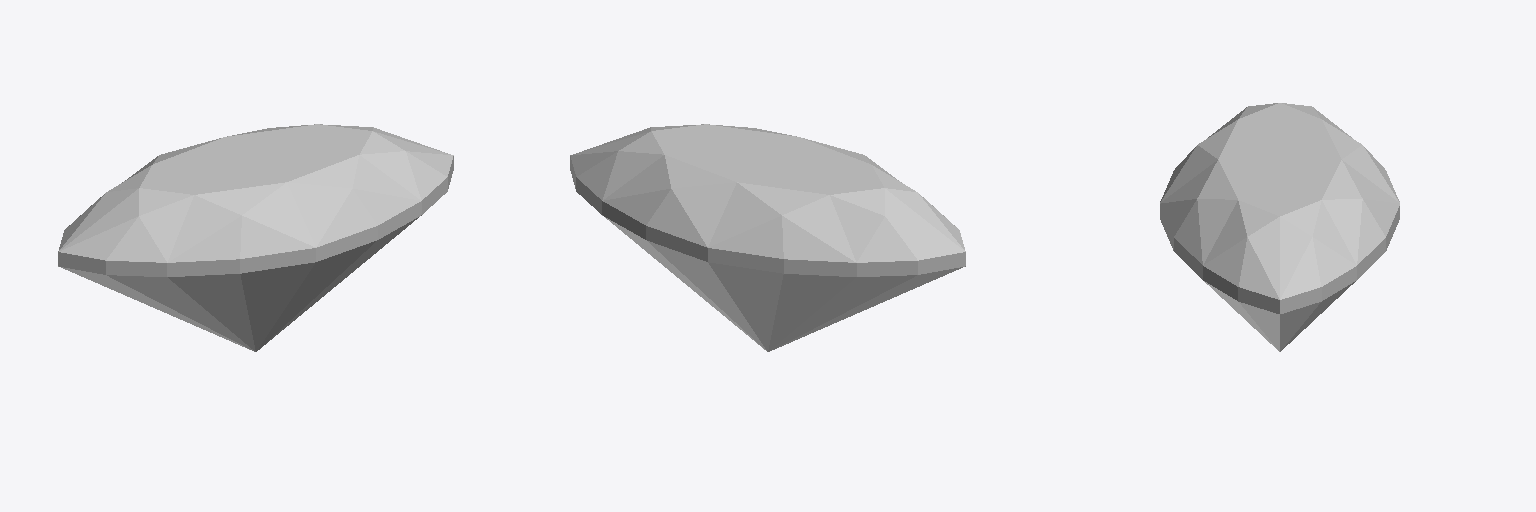
Rendered from Gem2.obj.
3 views of the same model, side by side, from view 1: azimuth 30°, elevation 25°; view 2: azimuth 150°, elevation 25°; view 3: azimuth 270°, elevation 25° (orthographic).
Size of the model in its own units: 0.0448 by 0.0209 by 0.0236.